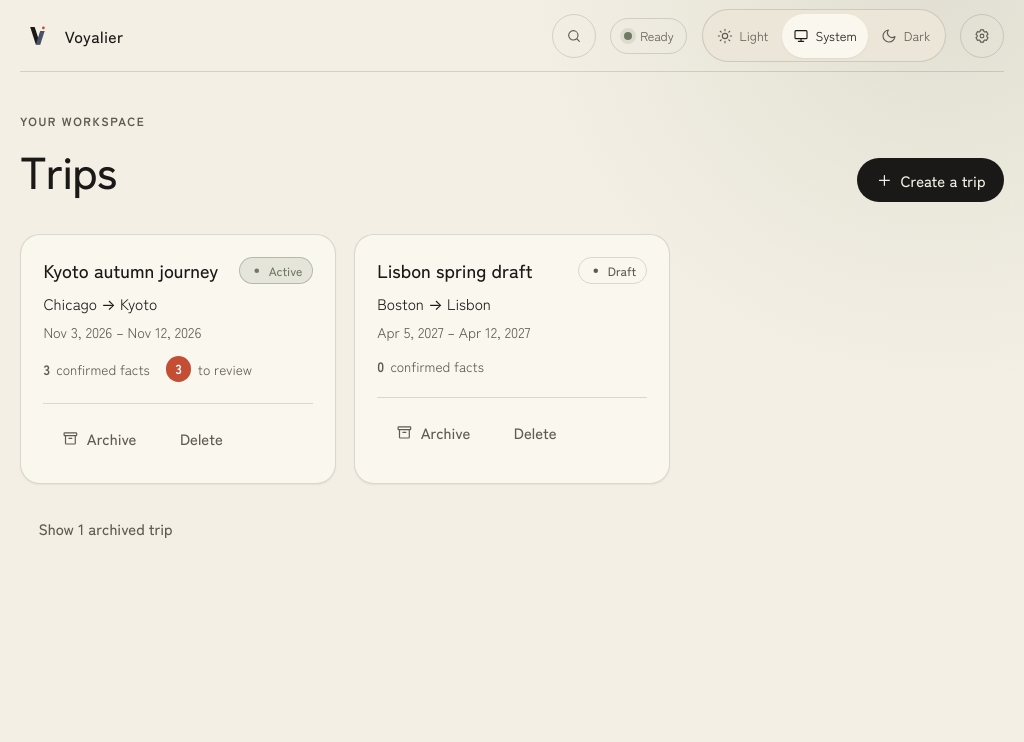
Test: destination facts › says nothing about clocks when neither place changes
Click the button with aria-label "Open Kyoto autumn journey" at (131, 270), box [43, 257, 218, 283]
(page scrolled)
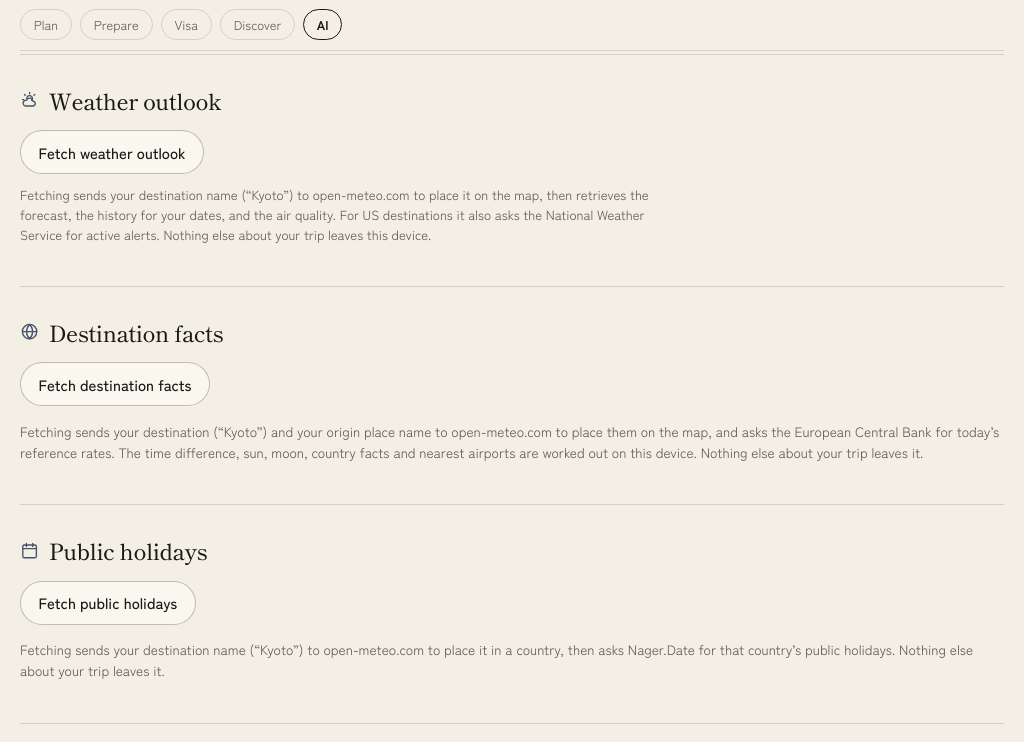
Click the button "Fetch destination facts" at (115, 384), box [20, 362, 210, 406]
(page scrolled)
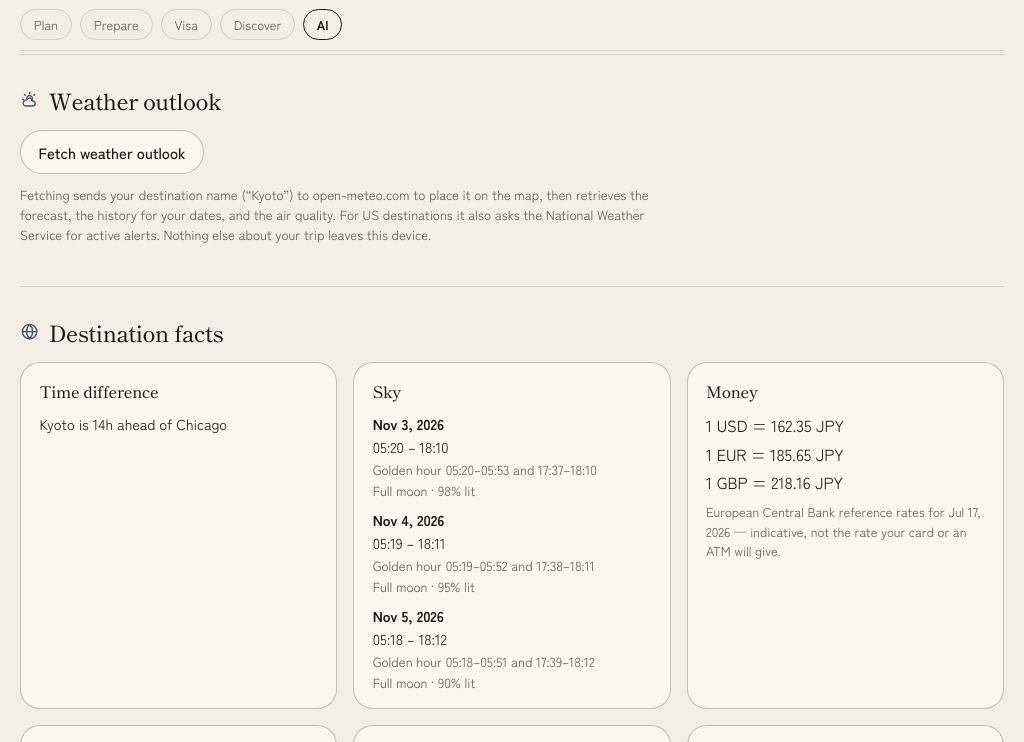
Expected: the heading "Sky" is shown, [373, 379, 401, 403]
